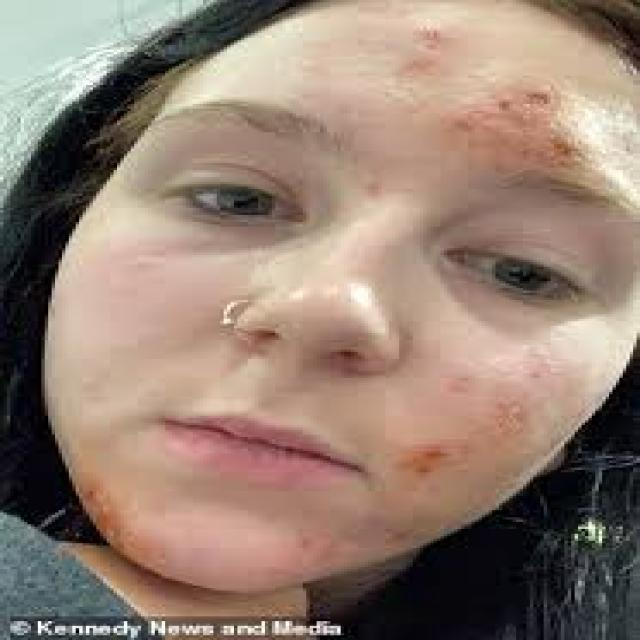burn: (391, 13, 637, 203), (397, 363, 570, 482), (174, 580, 311, 633), (77, 477, 141, 557)
